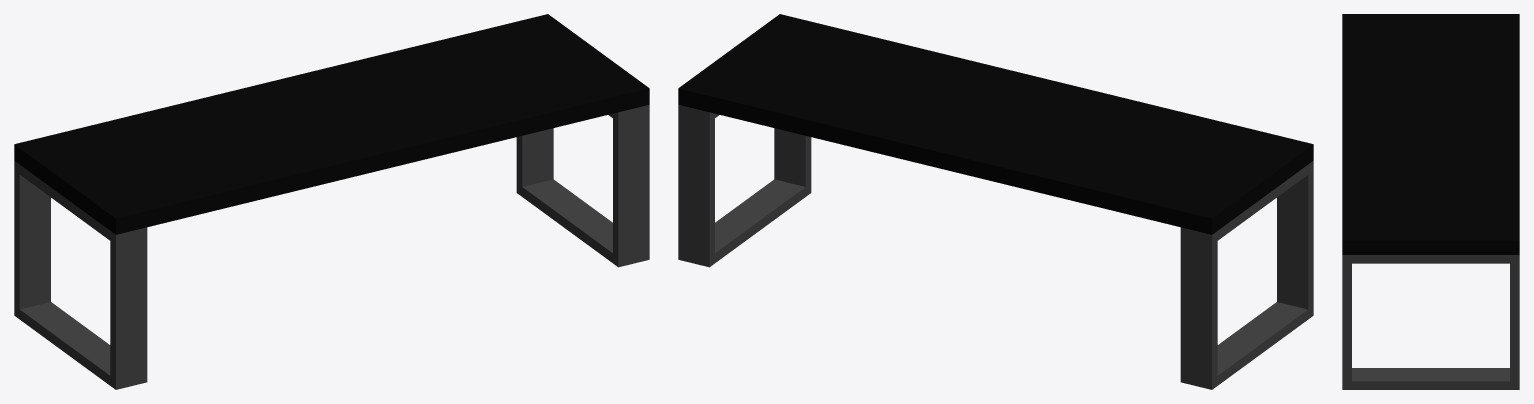
File: TableB.FBX
The picture shows the model from 3 angles, left to right: view 1: azimuth 30°, elevation 25°; view 2: azimuth 150°, elevation 25°; view 3: azimuth 270°, elevation 25°; orthographic projection. The views are drawn at different scales.
Visible parts, largest first — view 1: TableA; view 2: TableA; view 3: TableA.
Part boxes in pixels (x1,y1,x2,y2): TableA: (14,14,649,389); TableA: (678,14,1313,389); TableA: (1342,14,1519,389).
Size of the model in its own units: 246 by 75.37 by 81.06.
